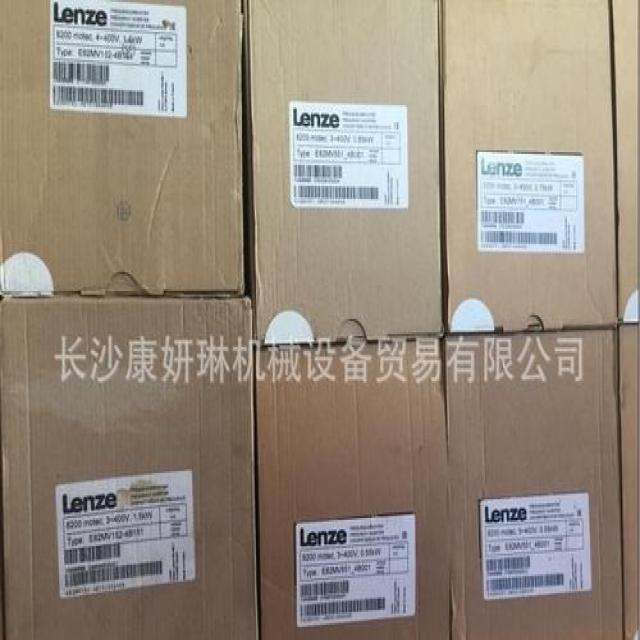box: (0, 2, 241, 296), (244, 2, 445, 346), (441, 2, 617, 332), (255, 342, 449, 638), (445, 327, 621, 638), (611, 2, 639, 326), (617, 325, 639, 638)
